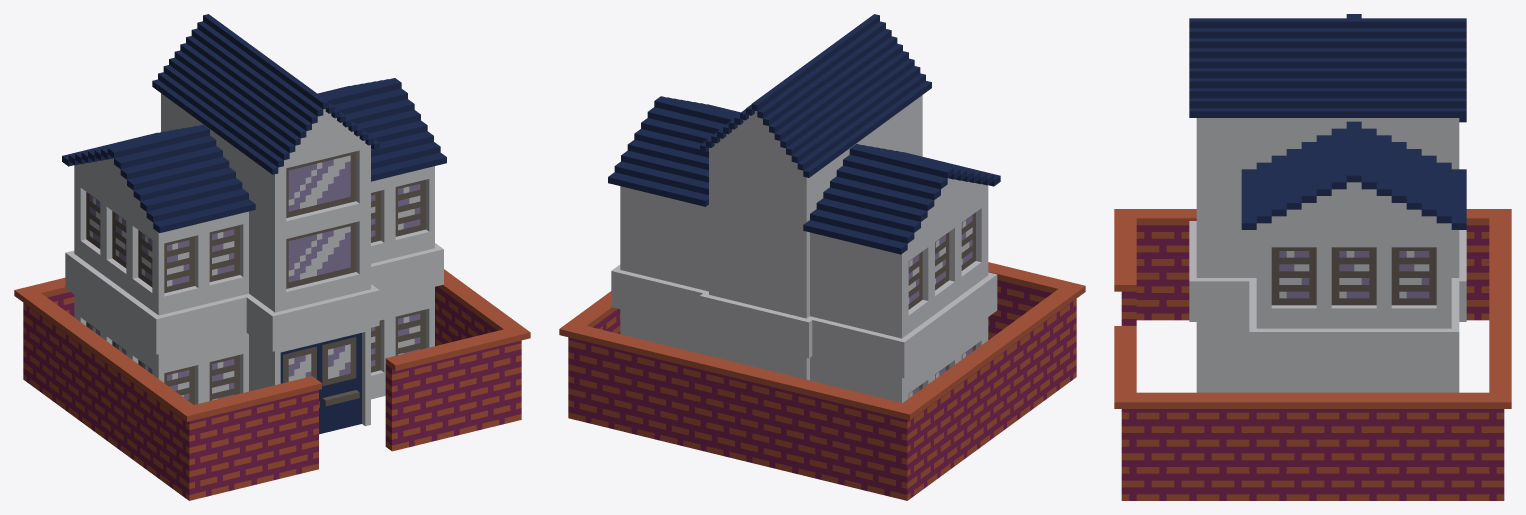
File: school_b.obj
3 views of the same model, side by side, from view 1: azimuth 30°, elevation 25°; view 2: azimuth 150°, elevation 25°; view 3: azimuth 270°, elevation 25° (orthographic). The views are drawn at different scales.
Bounding box in the file's own units: 6.1 × 5.7 × 5.3.
1 material, 1 textured.
